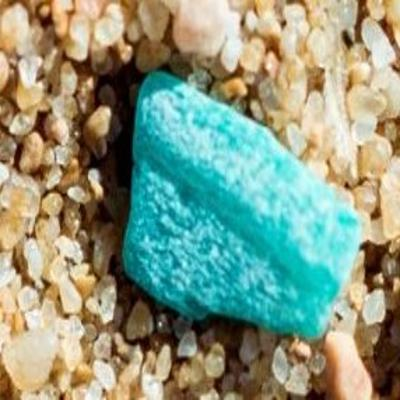plastic: (113, 58, 360, 348)
